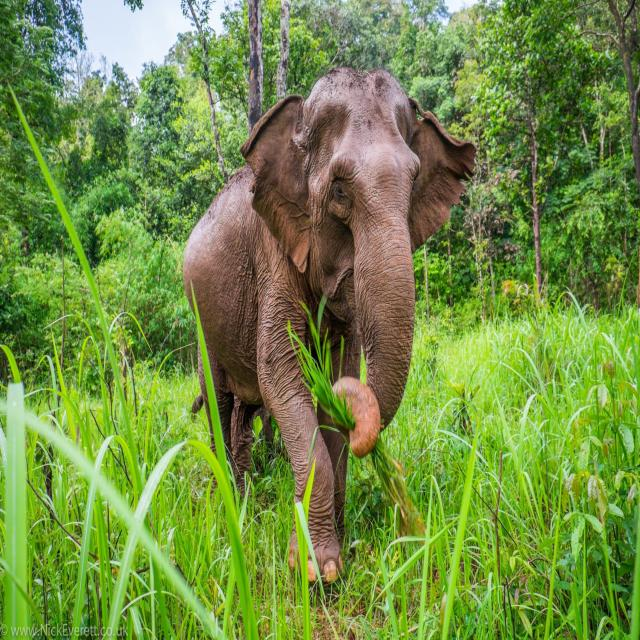Elephant: (180, 58, 488, 590)
